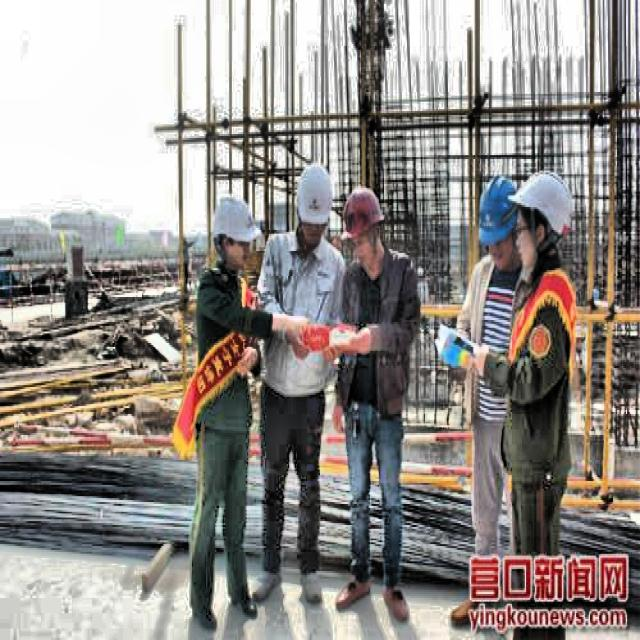helmet: (511, 165, 578, 270), (470, 176, 518, 276), (289, 157, 337, 247), (340, 182, 388, 272), (210, 199, 262, 282)
